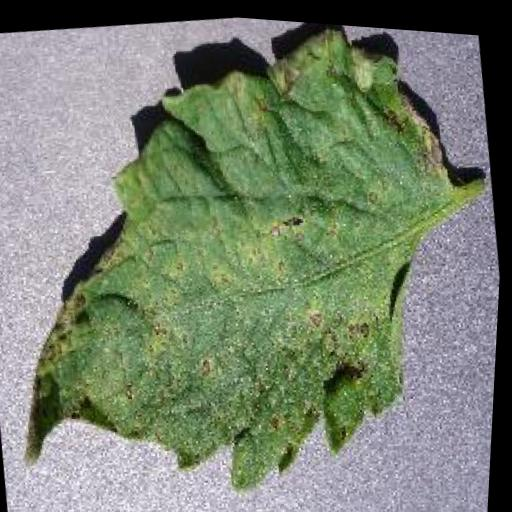Septoria: (0, 0, 494, 512)
